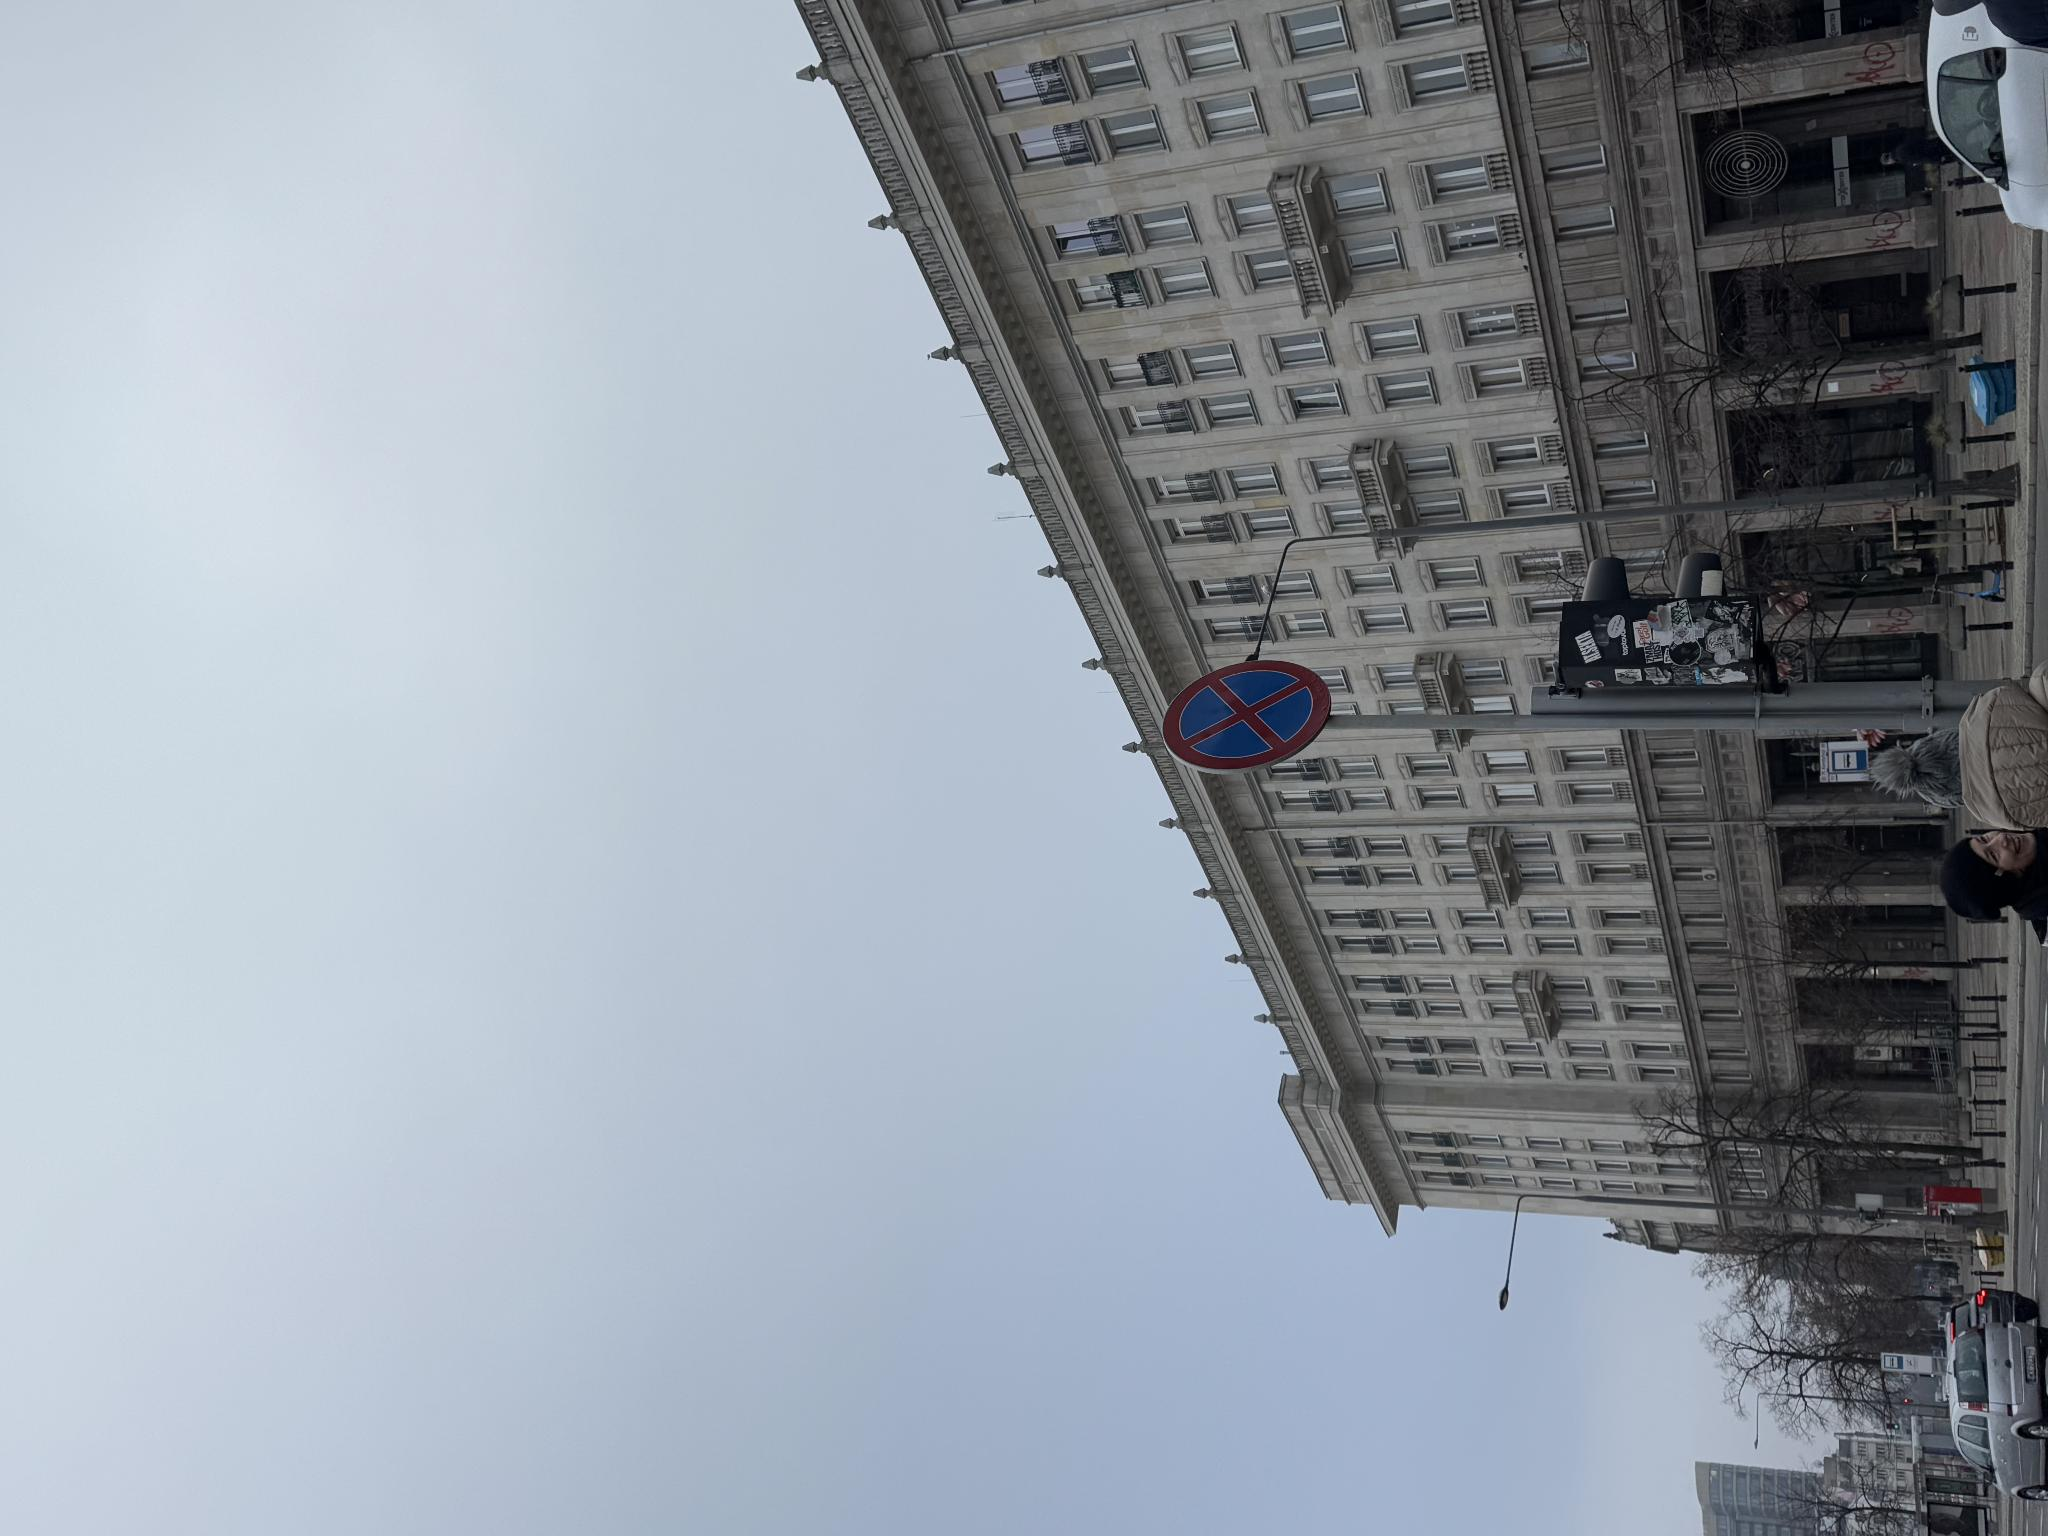prohibitory: (761, 1160, 877, 1333)
